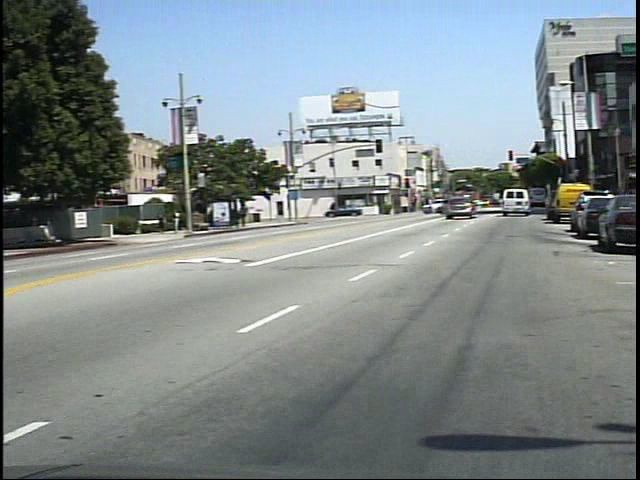person: (178, 207, 193, 236), (163, 211, 177, 237), (336, 201, 347, 212)
